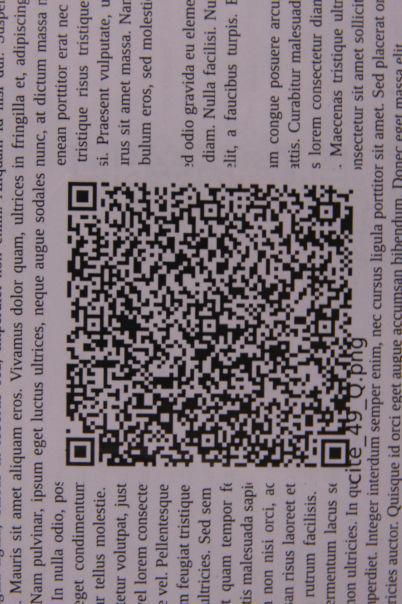Finder pattern: (62, 430, 103, 472), (317, 434, 355, 472), (64, 179, 102, 215)
